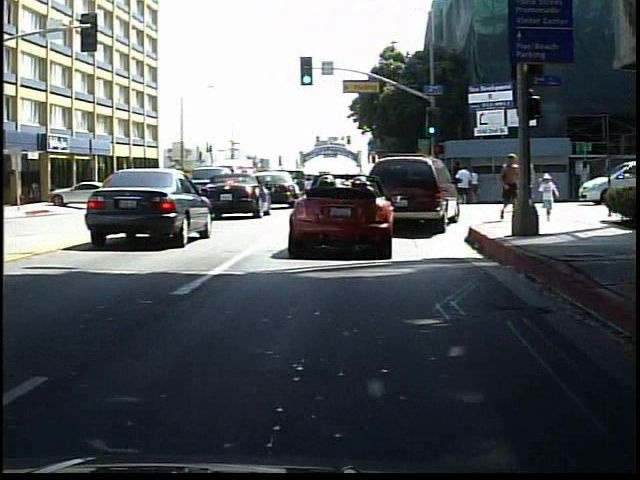person: (494, 150, 517, 224), (536, 172, 559, 222), (121, 173, 140, 205)
